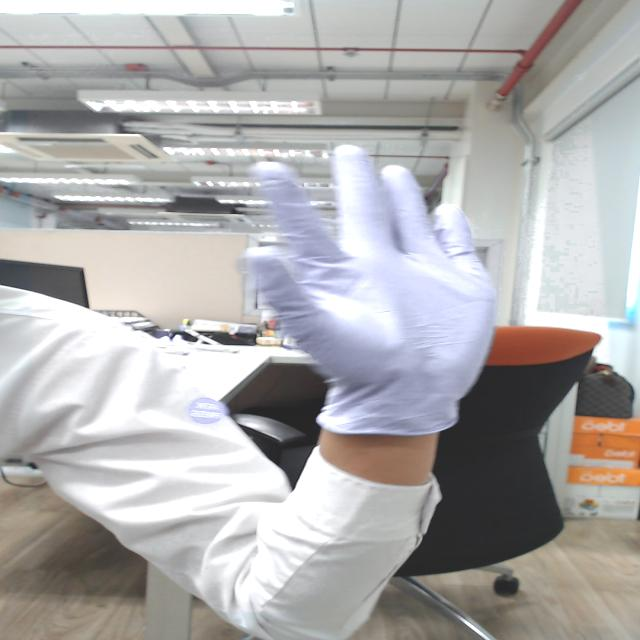glove: (204, 135, 541, 415)
